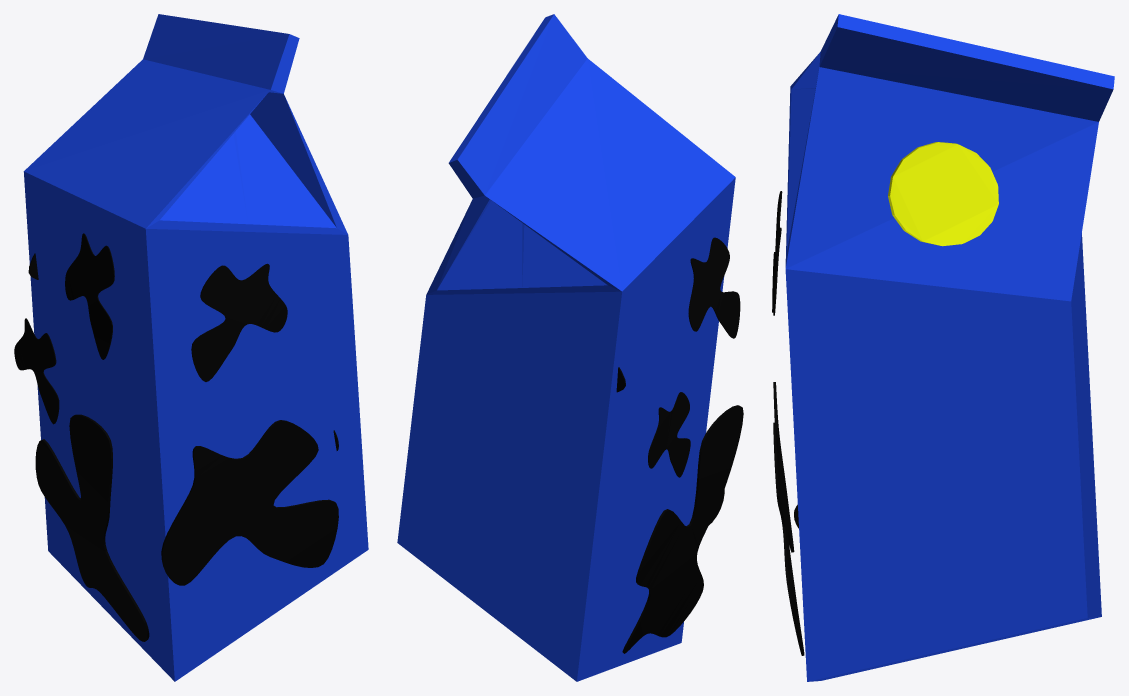
File: bend_high_1.obj
The picture shows the model from 3 angles, left to right: view 1: azimuth 30°, elevation 25°; view 2: azimuth 150°, elevation 25°; view 3: azimuth 270°, elevation 25°; orthographic projection. The views are drawn at different scales.
Parts seen in each view (by area): view 1: model; view 2: model; view 3: model.
Boxes of the visible parts, left/top/right/bottom form: model: left=14, top=14, right=368, bottom=681; model: left=397, top=14, right=743, bottom=681; model: left=772, top=14, right=1114, bottom=681.
Size of the model in its own units: 0.0978 by 0.2272 by 0.0956.
1 material, 1 textured.
